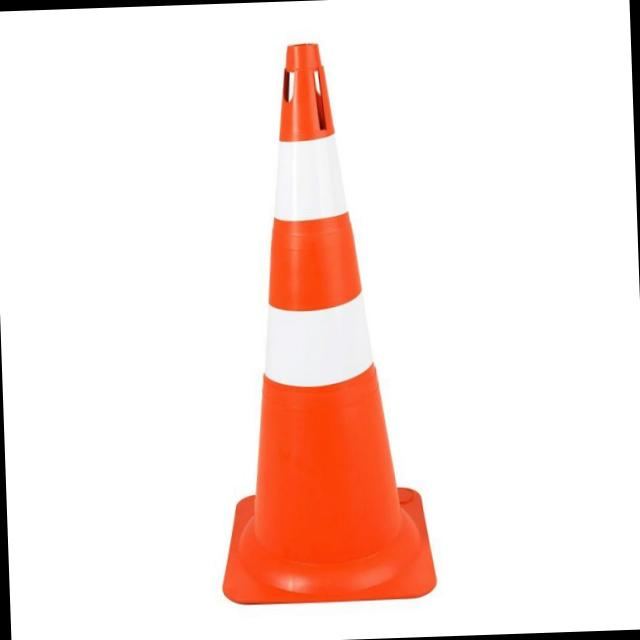cone: (198, 47, 432, 605)
